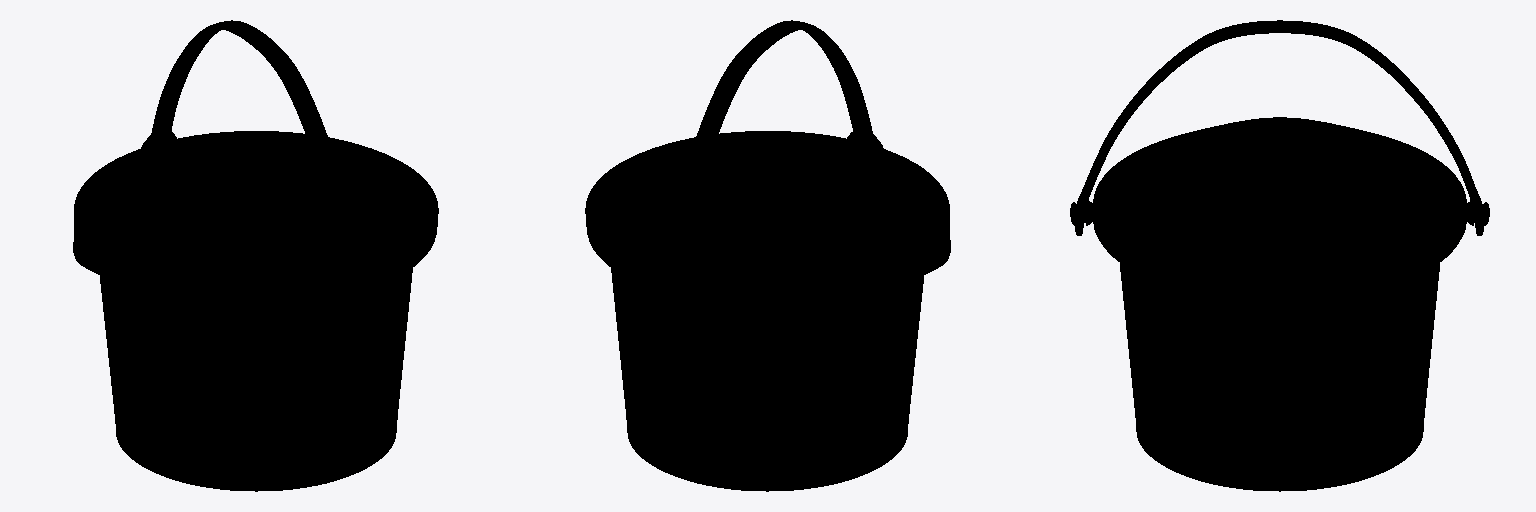
URDF robot description (bucket):
<?xml version="1.0" ?>
<robot name="bucket">
  <link name="baseLink">
    <contact>
      <lateral_friction value="1.0"/>
      <rolling_friction value="0.0"/>
      <contact_cfm value="0.0"/>
      <contact_erp value="1.0"/>
    </contact>
    <inertial>
      <origin rpy="0 0 0" xyz="0.0225 0.000 0.0047"/>
       <mass value="0.30"/>
       <inertia ixx="0.00012333" ixy="-0.0" ixz="-0.0" iyy="0.00005145" iyz="0.00000007" izz="0.00012910"/>
    </inertial>
    <visual>
      <origin rpy="0 0 0" xyz="0.0225 0.000 0.0047"/>
      <geometry>
        <mesh filename="../obj/bucket.obj" scale="0.001 0.001 0.001"/>
      </geometry>
       <material name="black">
        <color rgba="0 0 0 1"/>
      </material>
    </visual>
    <collision concave="yes">
      <origin rpy="0 0 0" xyz="0.0225 0.000 0.0047"/>
      <geometry>
	 	<mesh filename="../obj/bucket.obj" scale="0.001 0.001 0.001"/>
      </geometry>
    </collision>
  </link>
</robot>

--- Render facts (derived) ---
3 views of the same robot in one strip: view 1: azimuth 30°, elevation 25°; view 2: azimuth 150°, elevation 25°; view 3: azimuth 270°, elevation 25° (orthographic).
Robot: bucket — 1 links, 0 joints (none); root link baseLink; default pose: every joint at zero.
Visible links, largest first — view 1: baseLink; view 2: baseLink; view 3: baseLink.
Link boxes in pixels (bbox=[...]): baseLink: bbox=[73, 20, 438, 491]; baseLink: bbox=[585, 20, 950, 491]; baseLink: bbox=[1070, 20, 1489, 491].
Size in the robot's own frame: 0.2829 by 0.3016 by 0.3253 metres.
Meshes: 1 distinct files referenced, 1 mesh visuals loaded (1 OBJ).
